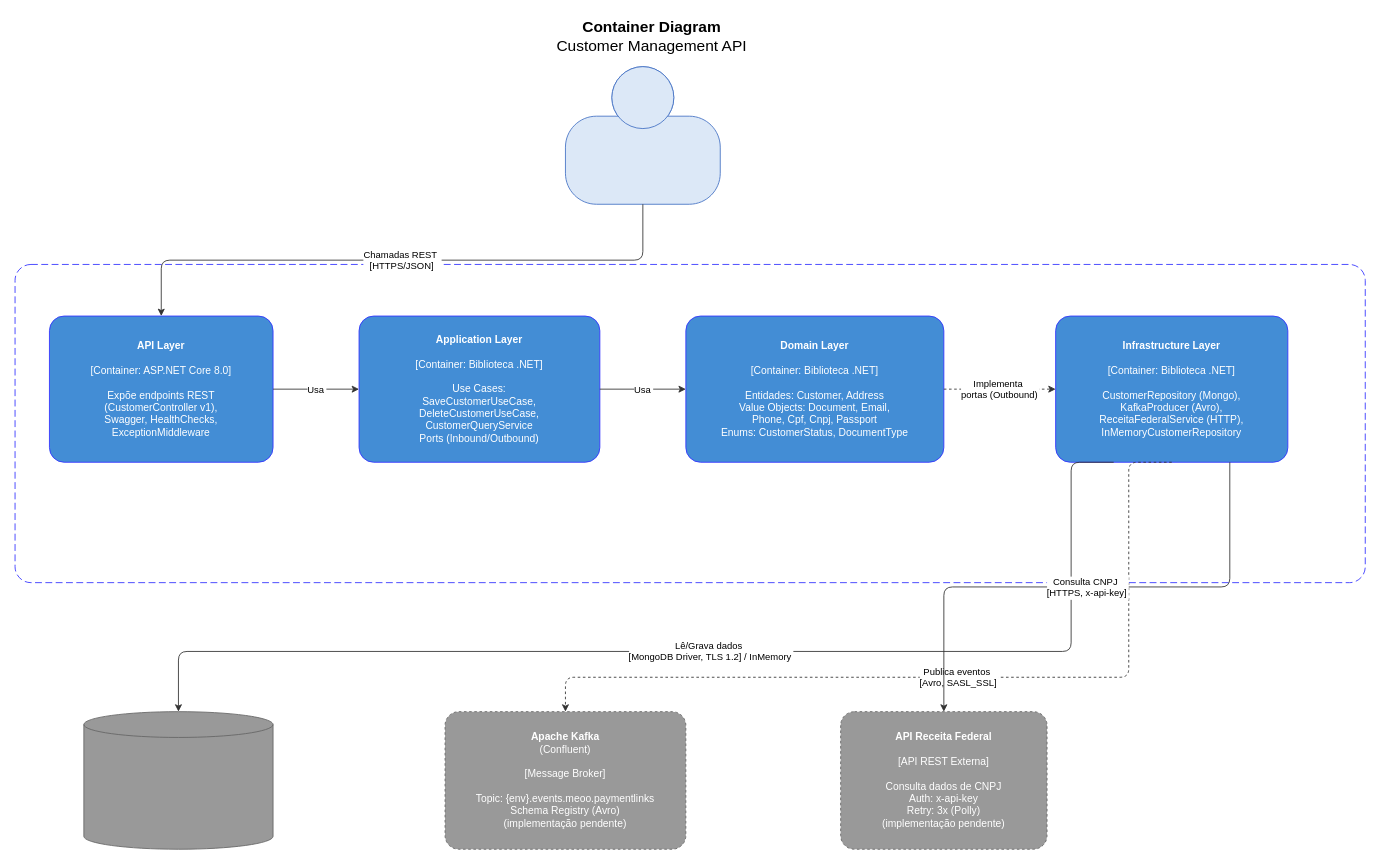
Some shapes in this 1380 by 864 pixel diagram are drawn without their labels. Here are the shapes that lost their labels. From the top down, the box of each, then its label:
(565, 66, 720, 204): Cliente / Usuário [Pessoa] Consome a API REST
(14, 264, 1365, 583): Customer Management API [System Boundary]
(83, 711, 273, 849): MongoDB Atlas [Banco de Dados NoSQL] db-customer-{env} Collection: customers
